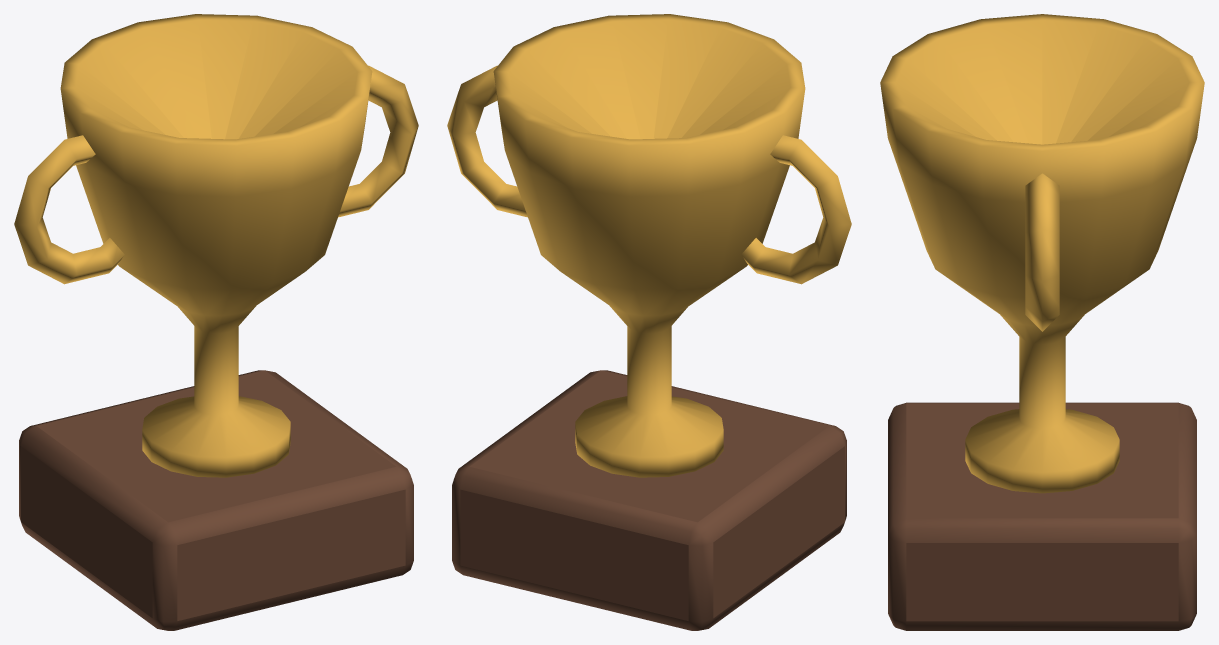
File: trophy.glb
3 renders of one model, left to right at view 1: azimuth 30°, elevation 25°; view 2: azimuth 150°, elevation 25°; view 3: azimuth 270°, elevation 25°, orthographic. The views are drawn at different scales.
Parts seen in each view (by area): view 1: trophy; view 2: trophy; view 3: trophy.
Boxes of the visible parts, bbox=[...] form: trophy: bbox=[14, 14, 418, 630]; trophy: bbox=[447, 14, 851, 630]; trophy: bbox=[880, 14, 1204, 630].
Bounding box in the file's own units: 0.4485 × 0.5031 × 0.3019.
